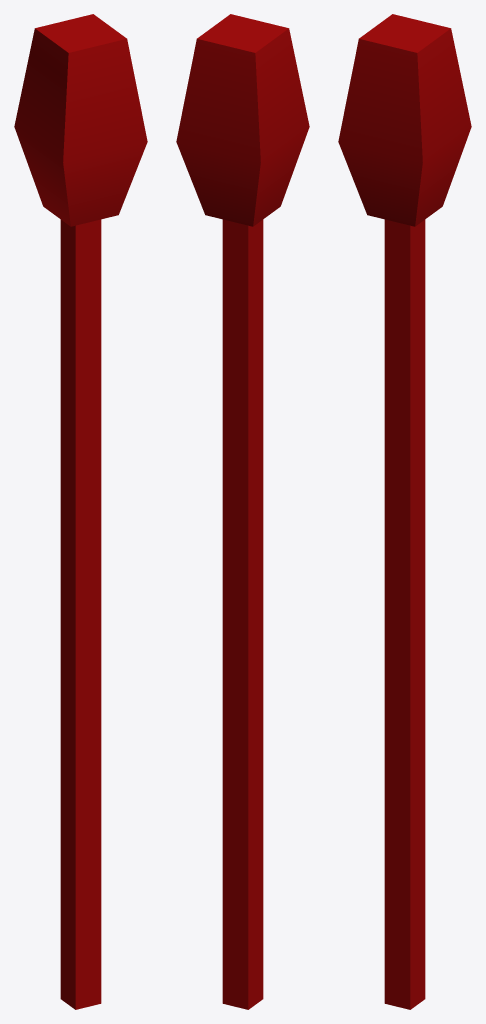
File: SM_Prop_Tiki_Torch_03_Collision.glb
3 views of the same model, side by side, from view 1: azimuth 30°, elevation 25°; view 2: azimuth 150°, elevation 25°; view 3: azimuth 330°, elevation 25° (orthographic).
Parts seen in each view (by area): view 1: SM_Prop_Tiki_Torch_03_Collision; view 2: SM_Prop_Tiki_Torch_03_Collision; view 3: SM_Prop_Tiki_Torch_03_Collision.
Part boxes in pixels (box(x1,y1,x2,y2)): SM_Prop_Tiki_Torch_03_Collision: box(14, 14, 147, 1009); SM_Prop_Tiki_Torch_03_Collision: box(176, 14, 309, 1009); SM_Prop_Tiki_Torch_03_Collision: box(338, 14, 471, 1009).
Size of the model in its own units: 0.1976 by 2.16 by 0.1976.
